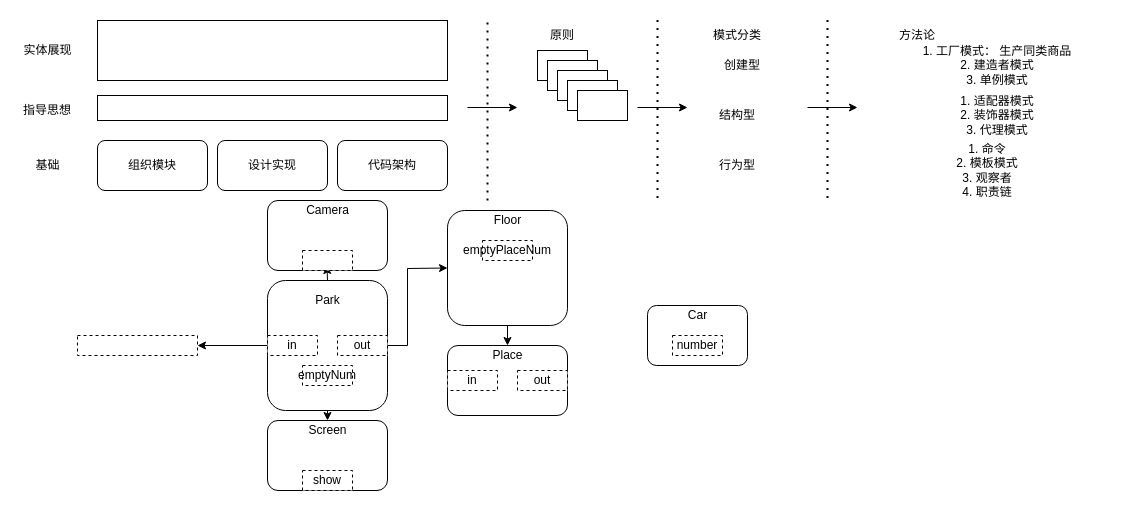
Some shapes in this 1124 by 508 pixel diagram are drawn without their labels. Here are the shapes that lost their labels. From the top down, the box of each, then its label:
(96, 20, 448, 80): 系统本身
(96, 94, 448, 120): 设计模式
(302, 250, 352, 270): shot
(76, 334, 198, 356): carList
